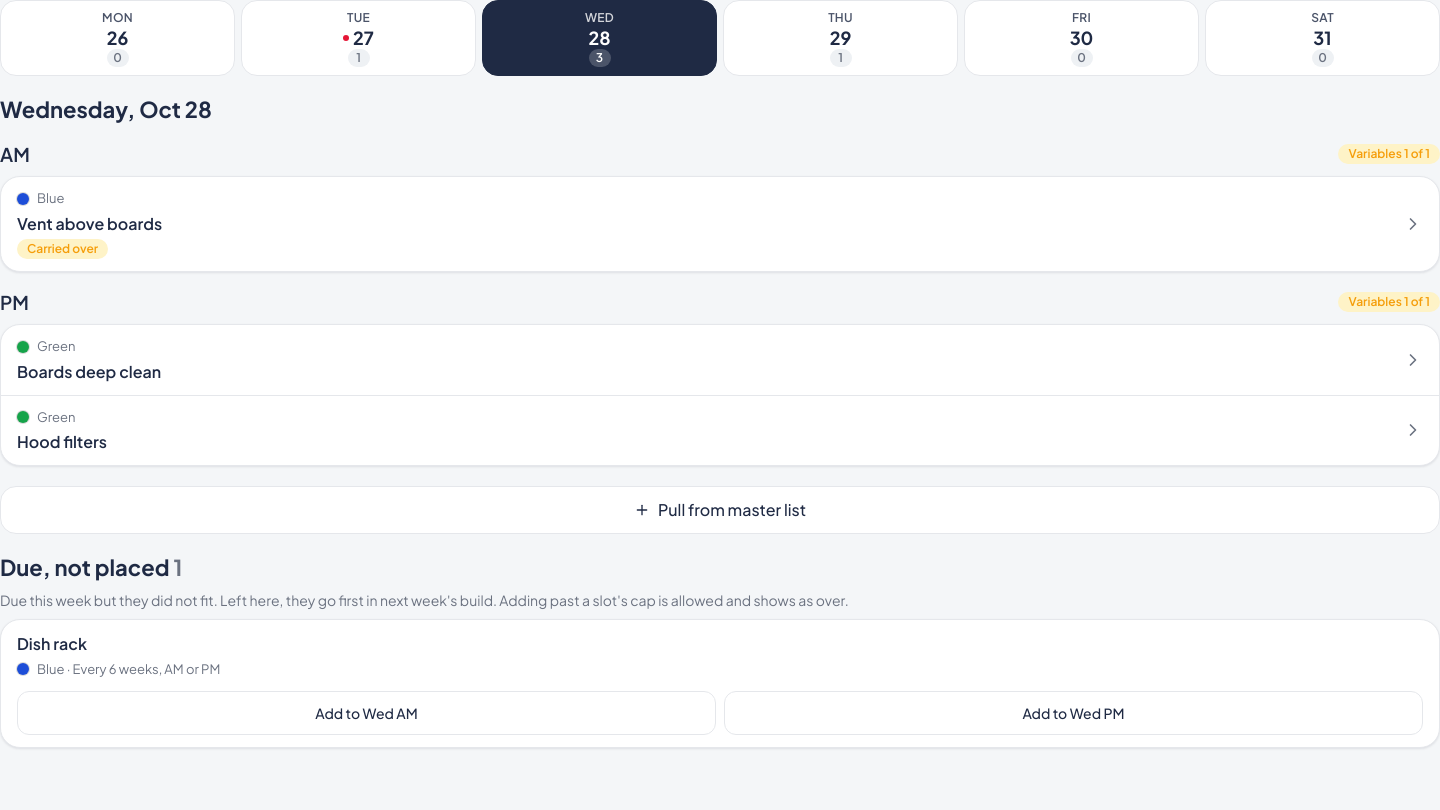
Test case: a planner › opens the options sheet by tapping a planned card on a later day
Click the button "Green Hood filters" at (56, 416), box [1,396,1439,465]
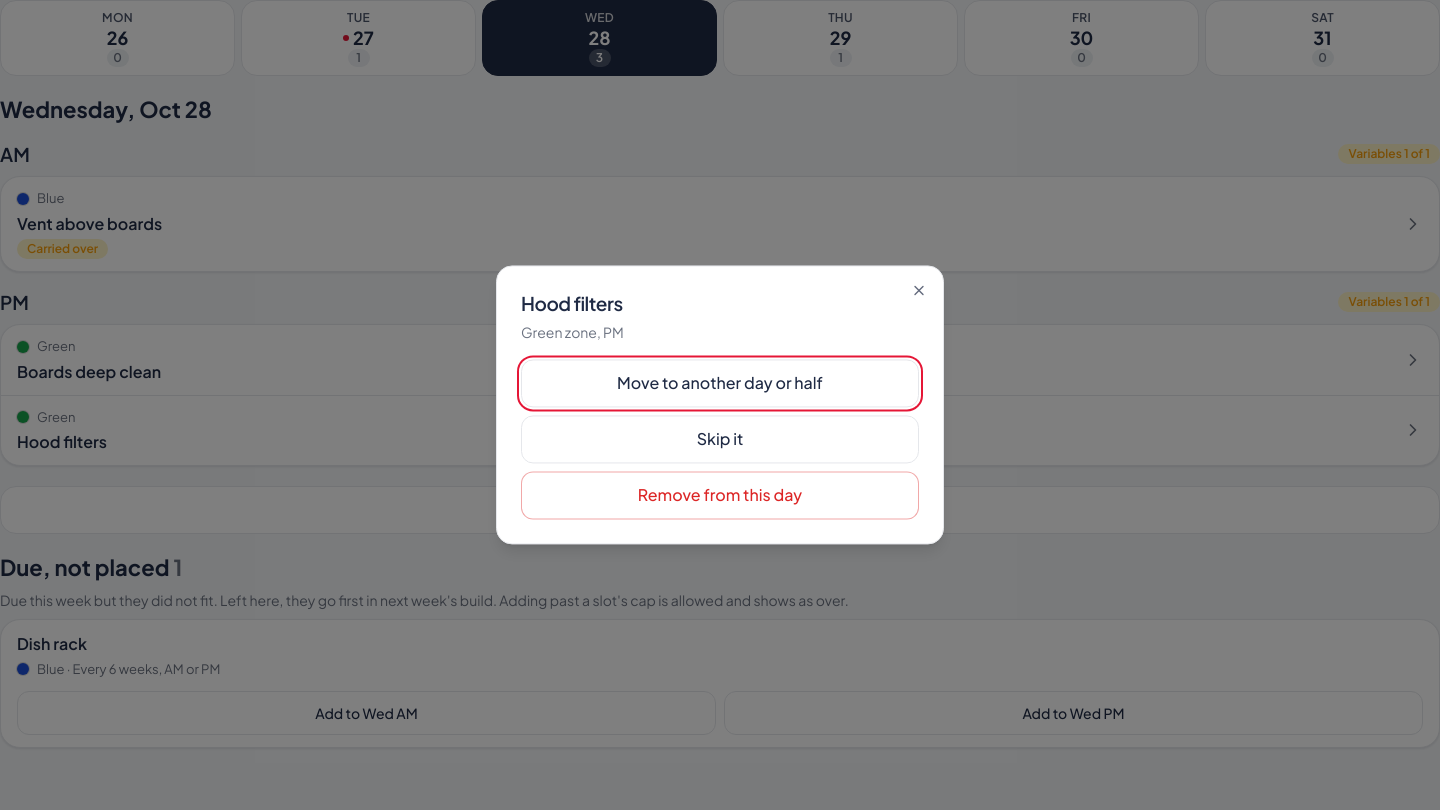
Check: the dialog is shown, box [496,265,944,544]
Check: the button "Move to another day or half" is shown, box [521,360,919,408]
Check: the button "Skip it" is shown, box [521,416,919,464]
